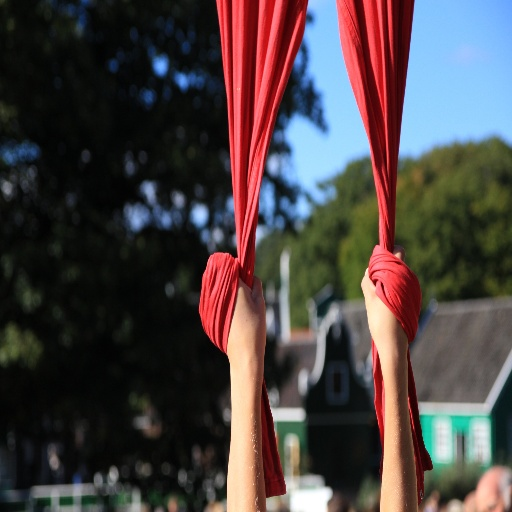hand: (364, 235, 423, 347), (225, 273, 267, 365)
